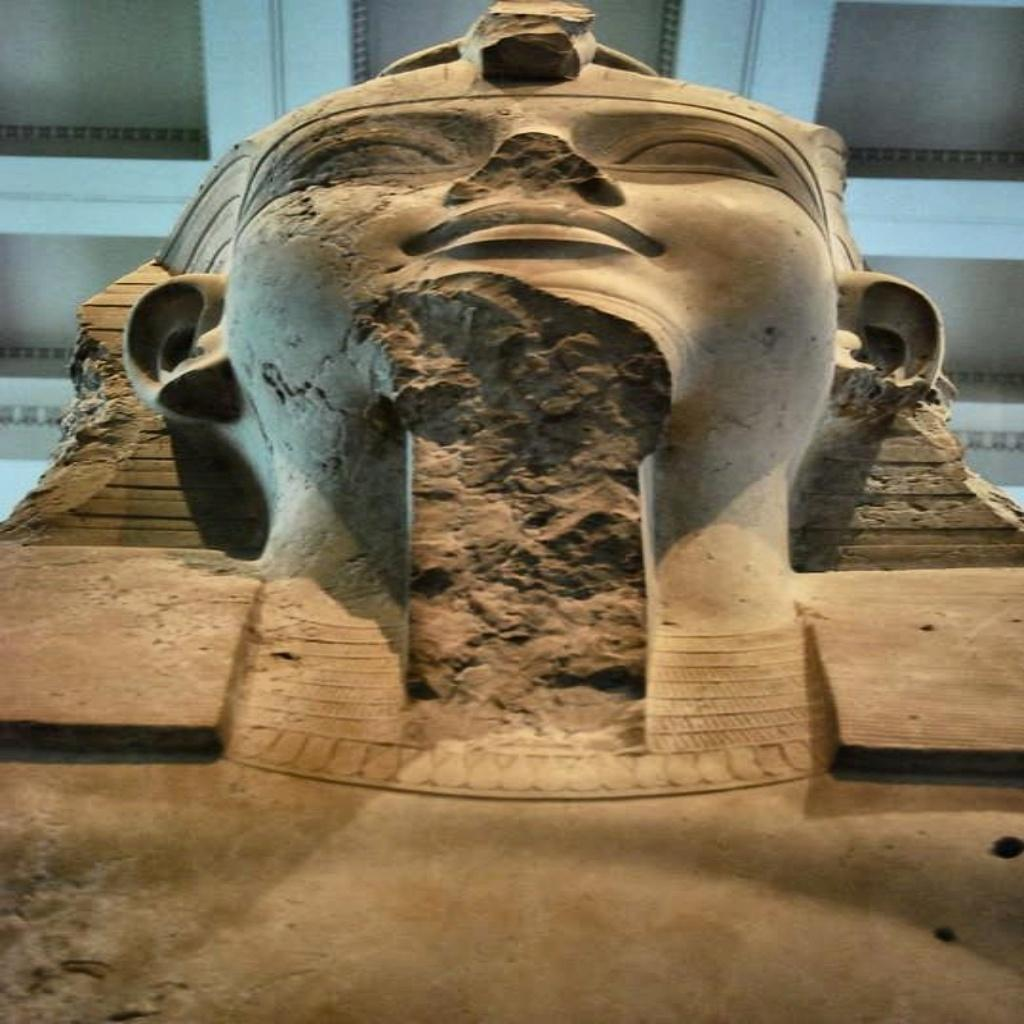Amenhotep III: (10, 3, 1018, 1024)
